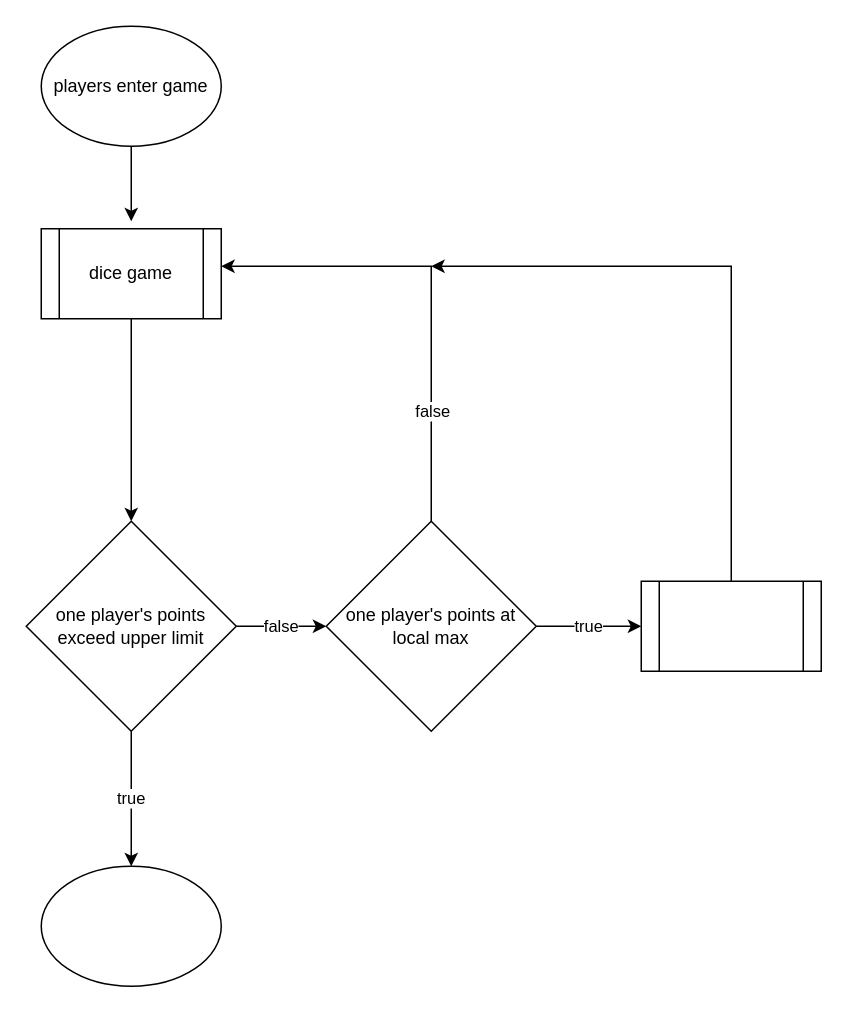
Image size: 848x1013. Some labels were removed from this diagram. The centre of each missing label's shape, as x and y in pixels:
"end" goes at pixel 130 925.
"subgame" goes at pixel 730 625.
